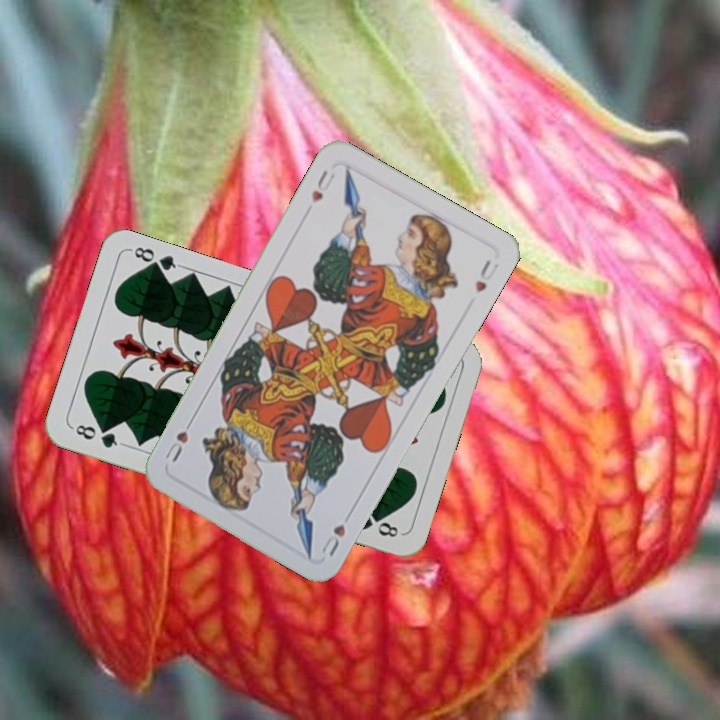G8: (68, 419, 126, 451)
HU: (317, 520, 349, 559), (307, 166, 338, 206)
